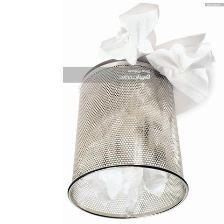tissue: (72, 69, 177, 220), (141, 29, 220, 122), (97, 0, 166, 69)
